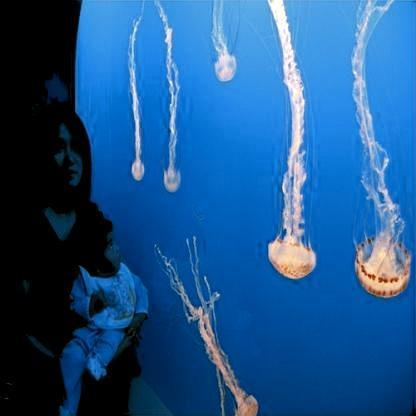Mosaic: (338, 8, 413, 300), (152, 239, 260, 415), (265, 9, 316, 283), (153, 8, 183, 196), (127, 5, 146, 181), (206, 5, 238, 82)
